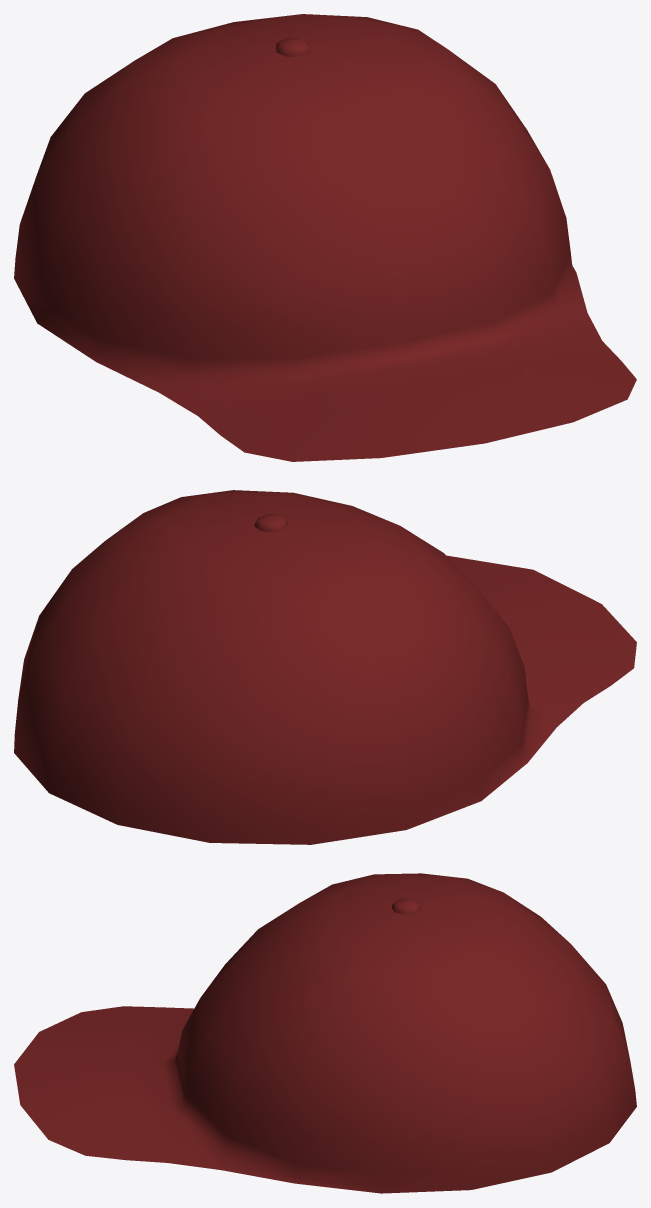
The model's file is cap-baseball-1.glb.
The picture shows the model from 3 angles, top to bottom: view 1: azimuth 30°, elevation 25°; view 2: azimuth 150°, elevation 25°; view 3: azimuth 270°, elevation 25°; orthographic projection. The views are drawn at different scales.
Parts seen in each view (by area): view 1: cap; view 2: cap; view 3: cap.
Part boxes in pixels (x1,y1,x2,y2): cap: (14,14,636,461); cap: (14,490,636,844); cap: (14,873,636,1193).
Bounding box in the file's own units: 0.8785 × 0.4096 × 1.19.
